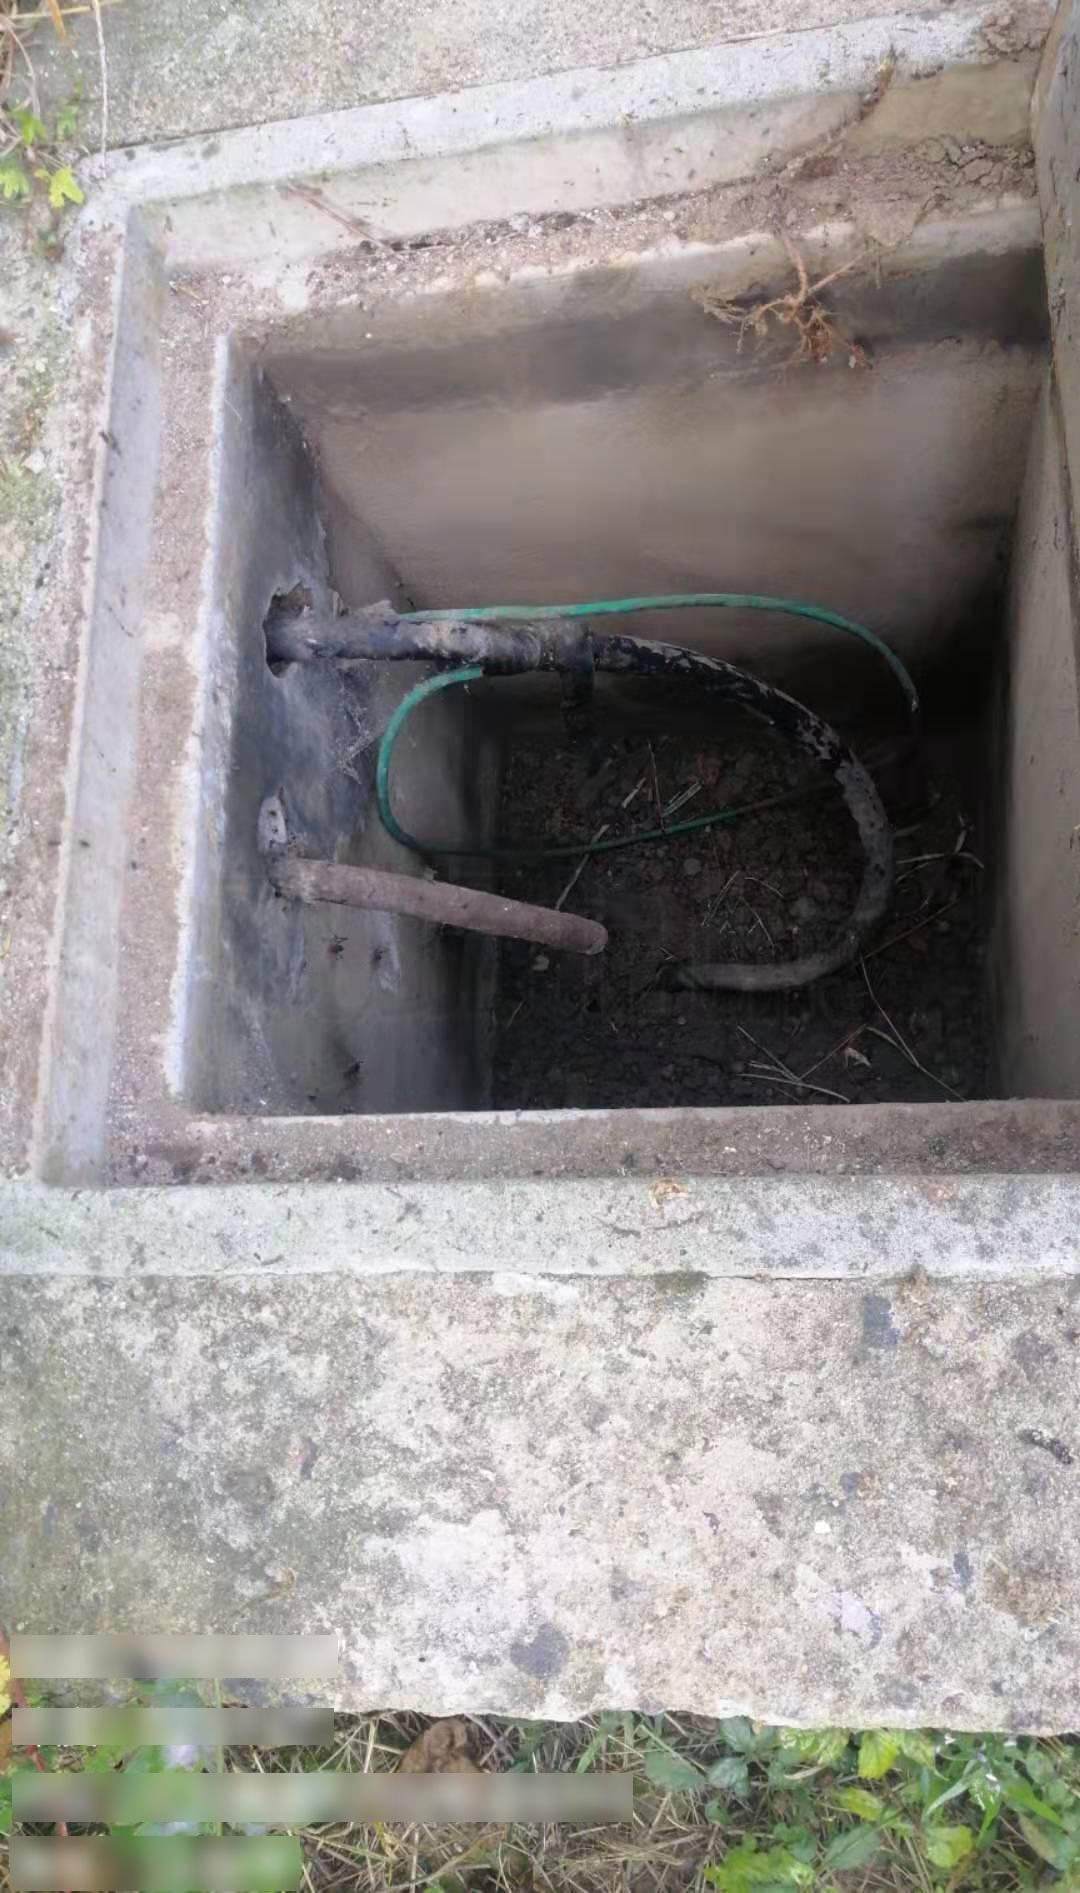wellcover: (44, 0, 1080, 1192)
